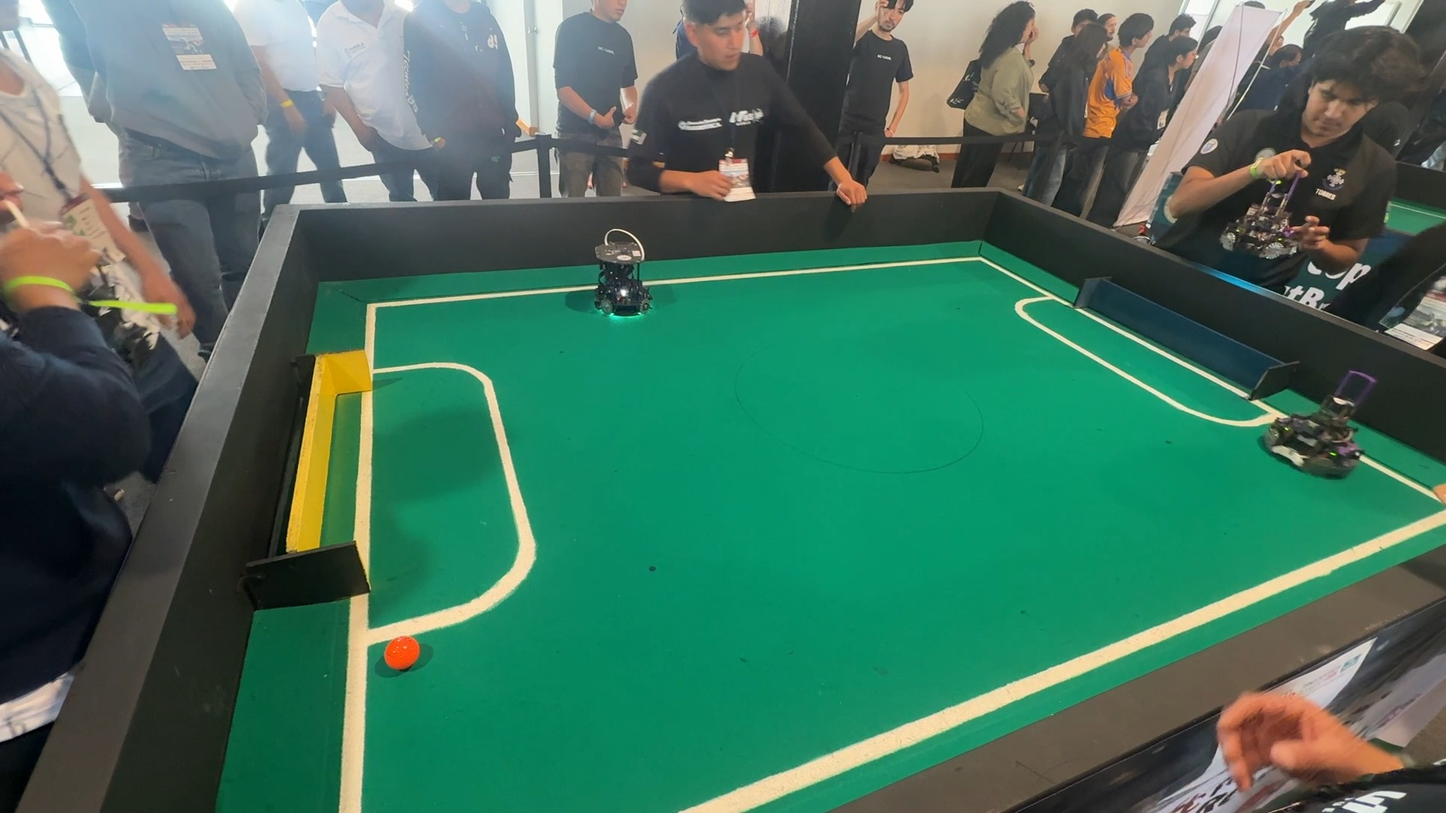Robot: (1248, 364, 1383, 486), (574, 227, 670, 333)
pelota: (379, 632, 431, 681)
